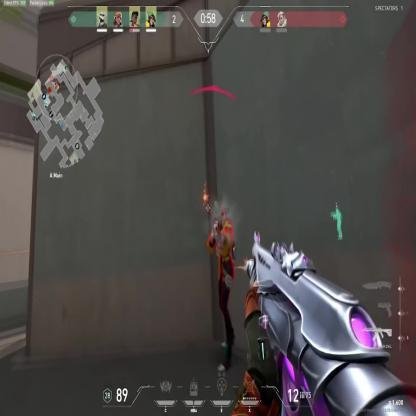enemy: (206, 202, 236, 376)
enemy_head: (213, 202, 225, 224)
